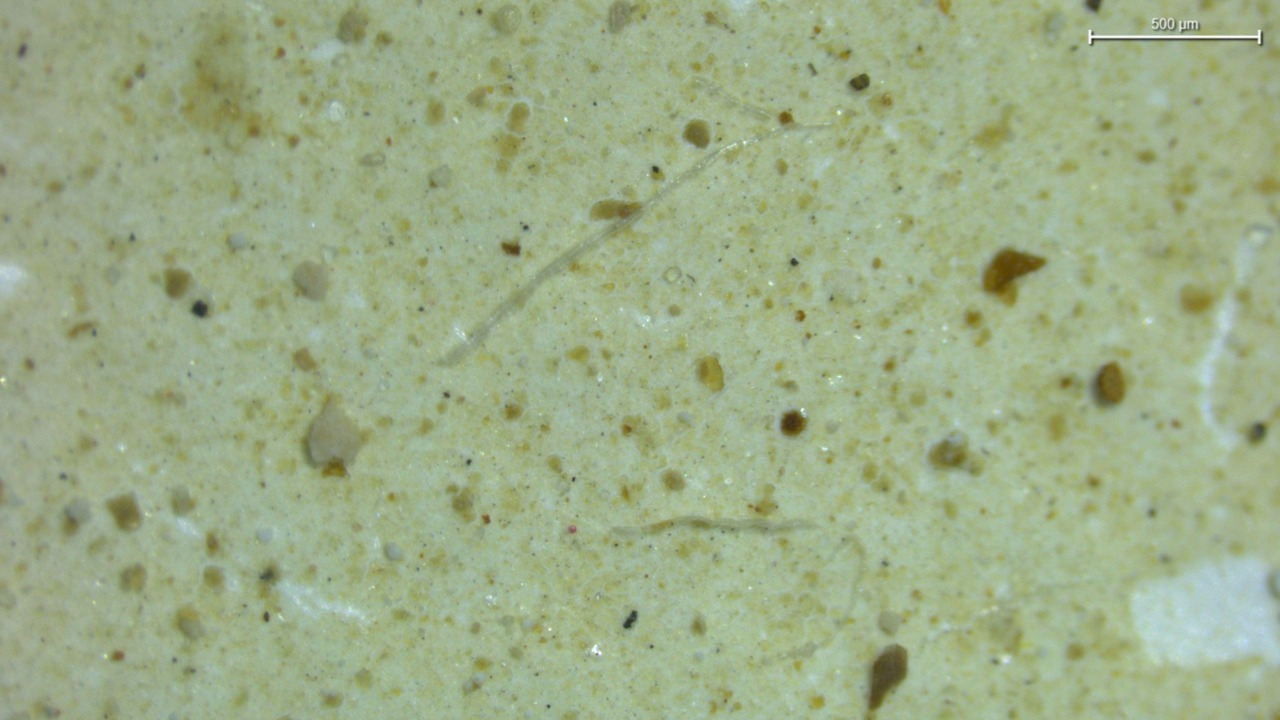microplastic_fragment: (307, 398, 360, 467)
